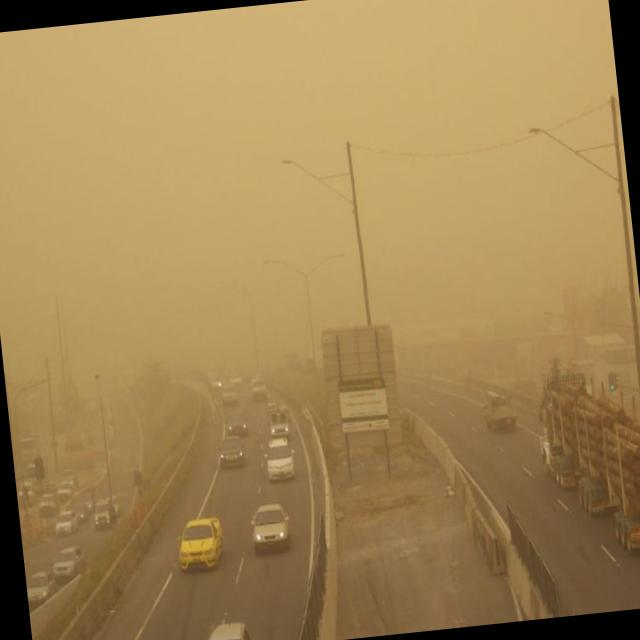car: (174, 515, 227, 573), (248, 501, 294, 554), (49, 544, 88, 585), (264, 437, 298, 482), (198, 614, 252, 640), (25, 570, 55, 612), (218, 434, 248, 470), (93, 498, 117, 527), (226, 409, 251, 435), (55, 506, 79, 531), (250, 377, 270, 402), (18, 480, 36, 505), (41, 493, 59, 517), (220, 383, 239, 405), (72, 498, 88, 519), (84, 488, 97, 513), (110, 493, 121, 514)
